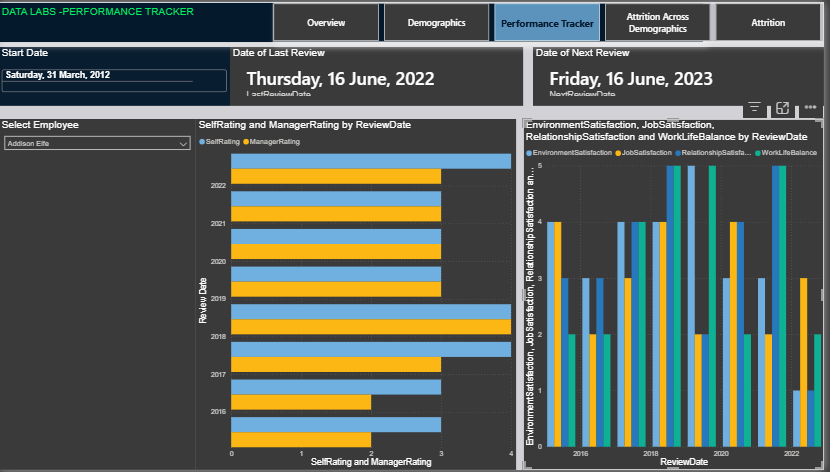

The dashboard page shown, as its layout file describes it:
{"tool":"powerbi","page":{"name":"Performance Tracker","canvas":[1500,850],"ordinal":2},"visuals":[{"type":"cardVisual","title":"Start Date","fields":{"Rows":["DimEmployee.HireDate"]},"box":[0,81.8,420,107.3],"z":0},{"type":"cardVisual","title":"Date of Last Review","fields":{"Data":["_Measures.LastReviewDate"]},"box":[420,81.8,532.7,107.3],"z":1000},{"type":"cardVisual","title":"Date of Next Review","fields":{"Data":["DimEmployee.NextReviewDate"]},"box":[970.9,81.8,529.1,107.3],"z":2000},{"type":"clusteredBarChart","fields":{"Y":["_Measures.SelfRating","_Measures.ManagerRating"],"Category":["FactPerformanceRating.ReviewDate"]},"box":[358.2,212.7,581.8,638.2],"z":3000},{"type":"slicer","title":"Select Employee","fields":{"Values":["DimEmployee.FullName"]},"box":[0,212.7,358.2,638.2],"z":4000},{"type":"clusteredColumnChart","fields":{"Y":["_Measures.EnvironmentSatisfaction","_Measures.JobSatisfaction","_Measures.RelationshipSatisfaction","_Measures.WorkLifeBalance"],"Category":["FactPerformanceRating.ReviewDate"]},"box":[952.7,212.7,547.3,638.2],"z":5000},{"type":"textbox","box":[0,1.7,1280,70.6],"z":6000},{"type":"pageNavigator","box":[498.2,1.8,1001.8,70.9],"z":7000}]}

Visuals, with their boxes in screenshot pixels (x1, y1, x2, y2), scaled from the page's 1500x850 canvas onto the 830x472 screenshot:
"Start Date" cardVisual: rect(0, 45, 232, 105)
"Date of Last Review" cardVisual: rect(232, 45, 527, 105)
"Date of Next Review" cardVisual: rect(537, 45, 829, 105)
clusteredBarChart - _Measures.SelfRating x _Measures.ManagerRating: rect(198, 118, 520, 471)
"Select Employee" slicer: rect(0, 118, 198, 471)
clusteredColumnChart - _Measures.EnvironmentSatisfaction x _Measures.JobSatisfaction: rect(527, 118, 829, 471)
textbox: rect(0, 1, 708, 40)
pageNavigator: rect(276, 1, 829, 40)
